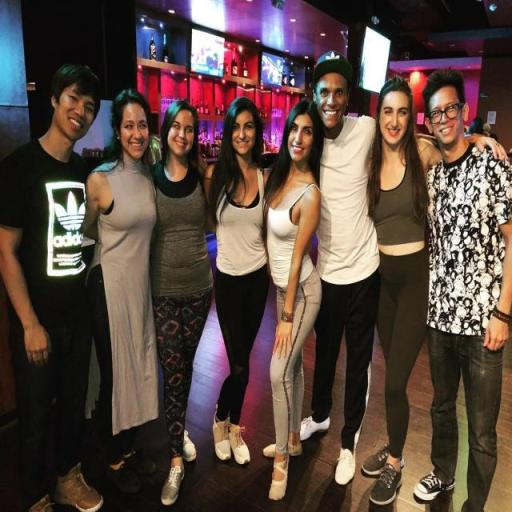Adidas: (52, 189, 88, 250)
